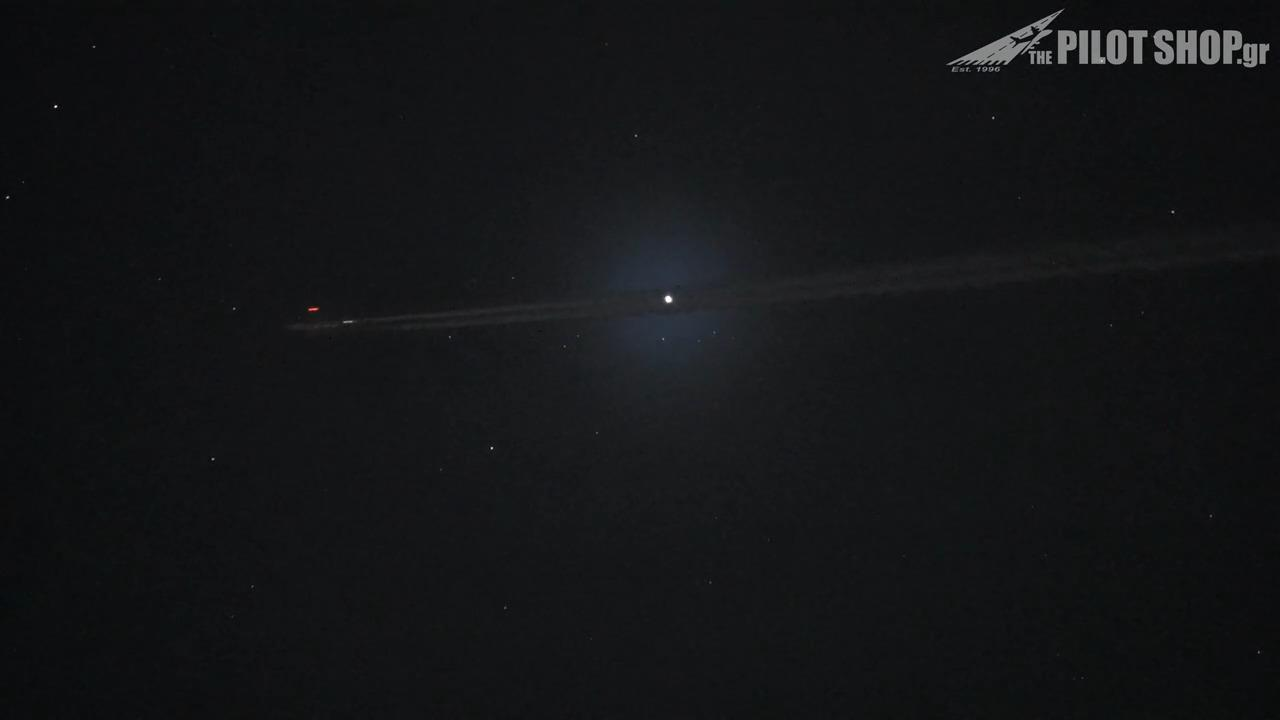Plane: (279, 294, 547, 347)
